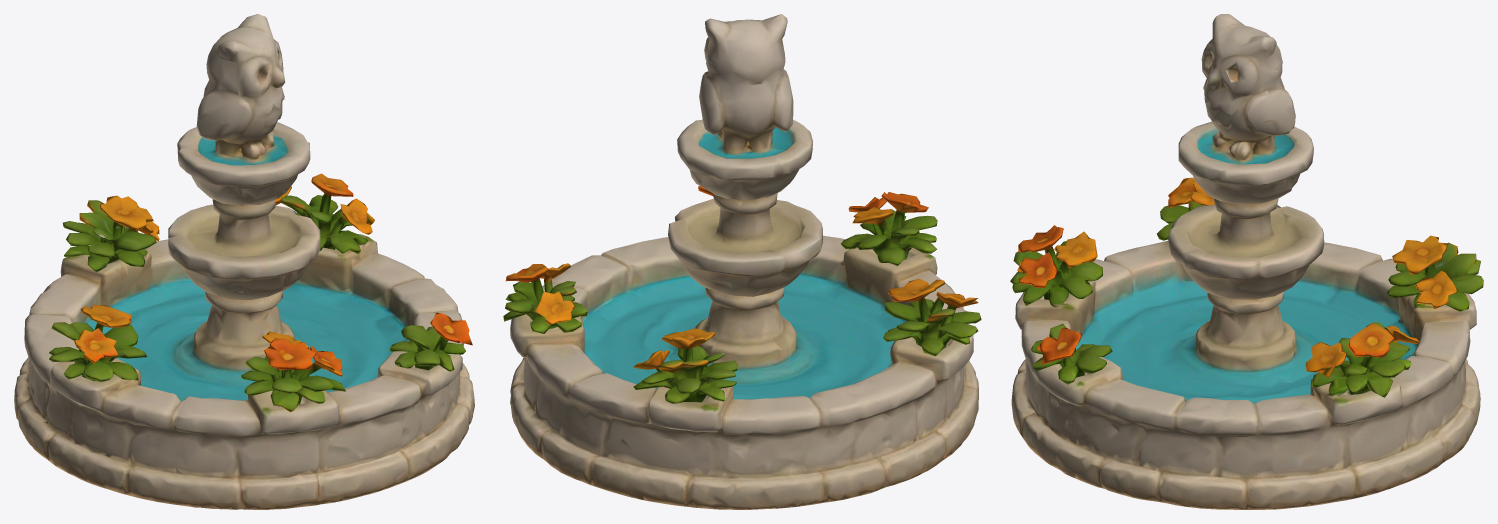
File: fountain.glb
3 views of the same model, side by side, from view 1: azimuth 30°, elevation 25°; view 2: azimuth 150°, elevation 25°; view 3: azimuth 270°, elevation 25° (orthographic).
Parts seen in each view (by area): view 1: tripo_node_df213532-4dd2-4a11-9949-151266e9ed77; view 2: tripo_node_df213532-4dd2-4a11-9949-151266e9ed77; view 3: tripo_node_df213532-4dd2-4a11-9949-151266e9ed77.
Part boxes in pixels (x1,y1,x2,y2): tripo_node_df213532-4dd2-4a11-9949-151266e9ed77: (14, 14, 474, 509); tripo_node_df213532-4dd2-4a11-9949-151266e9ed77: (503, 14, 981, 509); tripo_node_df213532-4dd2-4a11-9949-151266e9ed77: (1010, 14, 1483, 509).
Size of the model in its own units: 1 by 0.9014 by 0.9953.
Materials: 1 (1 with a texture image).
